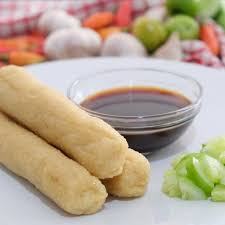Pempek lenjer: (0, 51, 128, 177), (0, 113, 106, 215), (101, 144, 156, 199)
